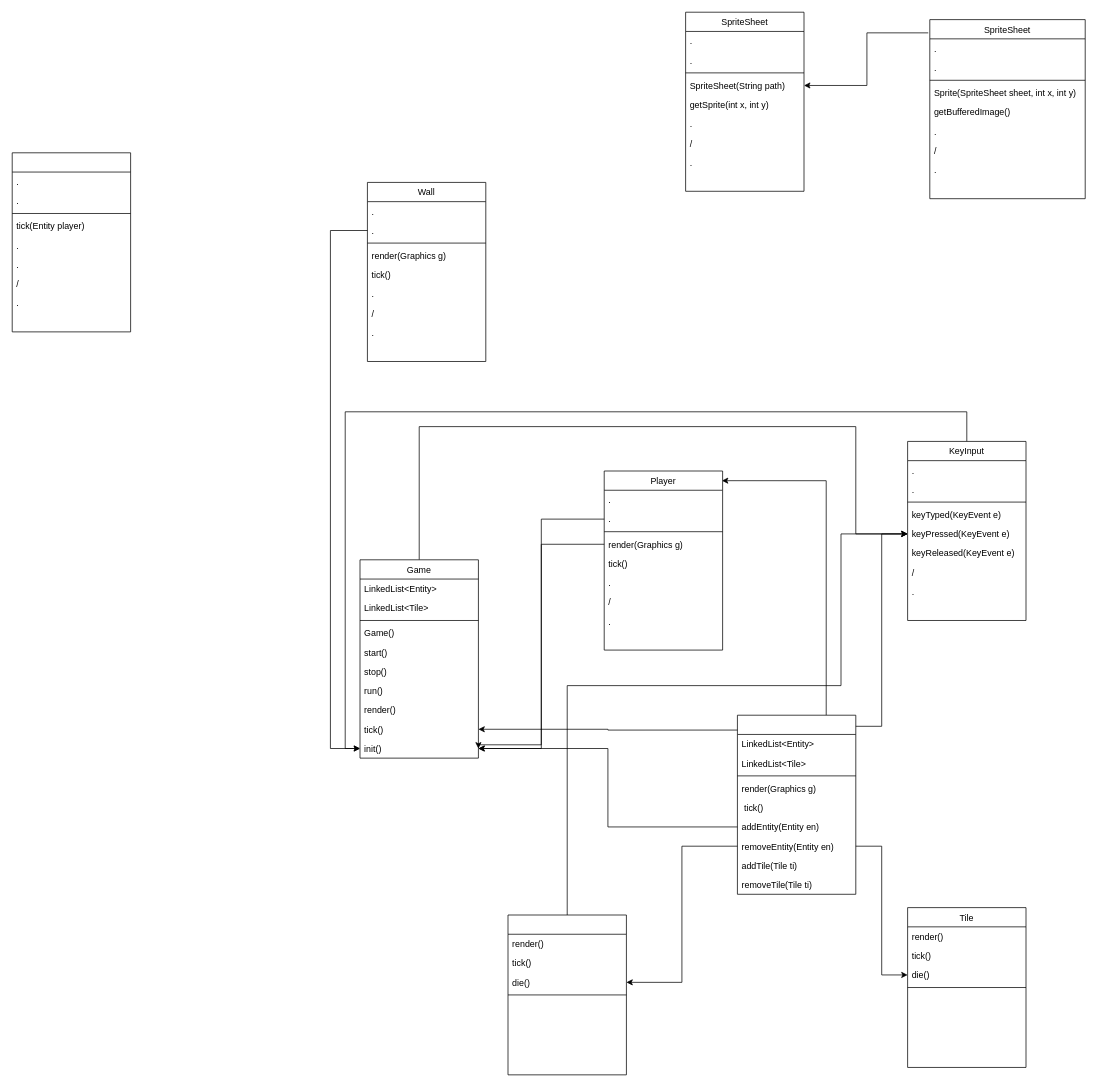
Image size: 1097x1087. Some labels were removed from this diagram. Each missing label, with the box of its shape:
Camera: (11, 152, 131, 332)
Entity: (507, 914, 626, 1075)
Handler: (737, 714, 856, 894)
